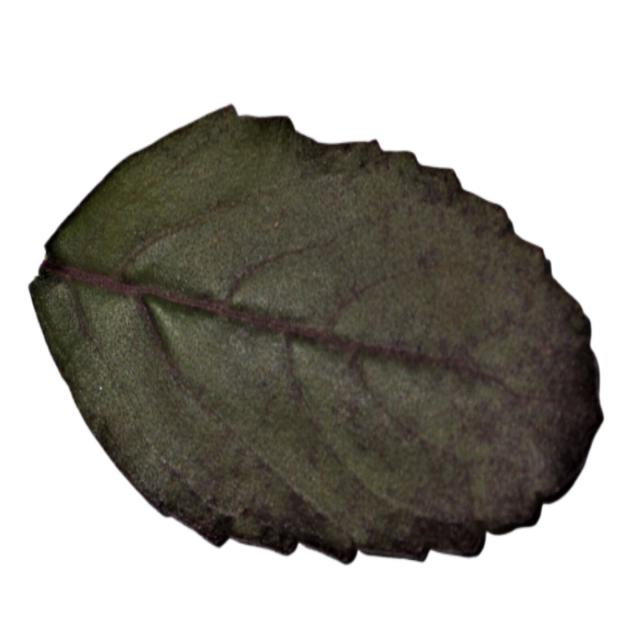tulsi: (30, 93, 607, 570)
